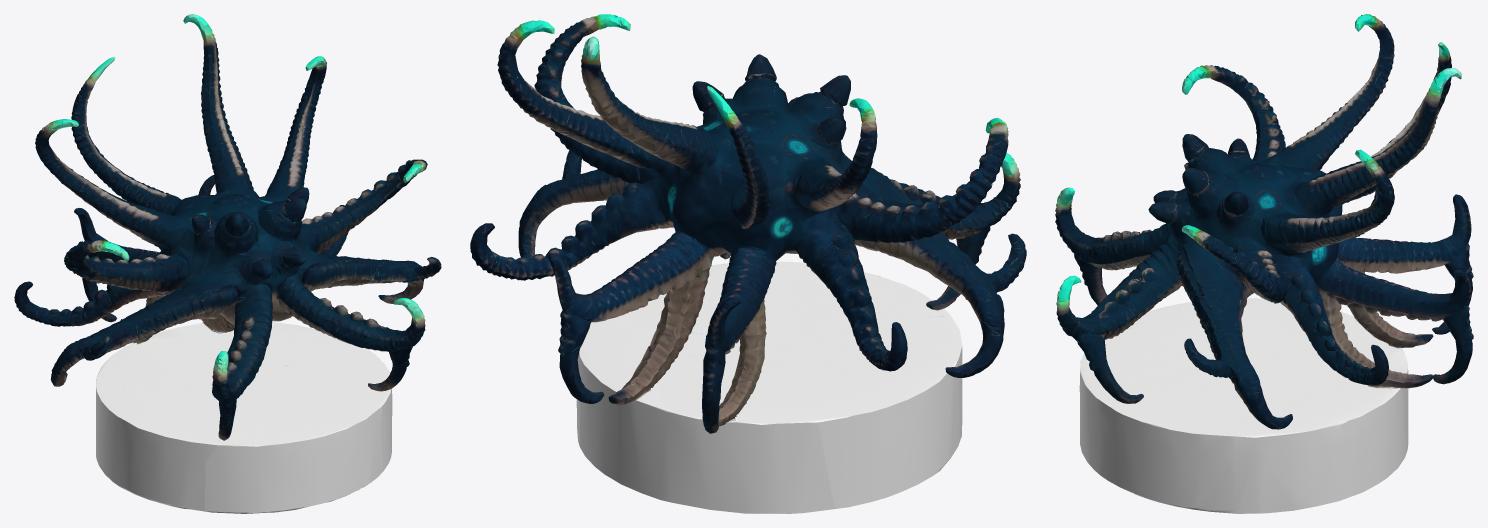
Rendered from bloom_seastar.glb.
3 renders of one model, left to right at view 1: azimuth 30°, elevation 25°; view 2: azimuth 150°, elevation 25°; view 3: azimuth 270°, elevation 25°, orthographic. The views are drawn at different scales.
Bounding box in the file's own units: 1.9 × 1.76 × 1.67.
Materials: 1 (1 with a texture image).
